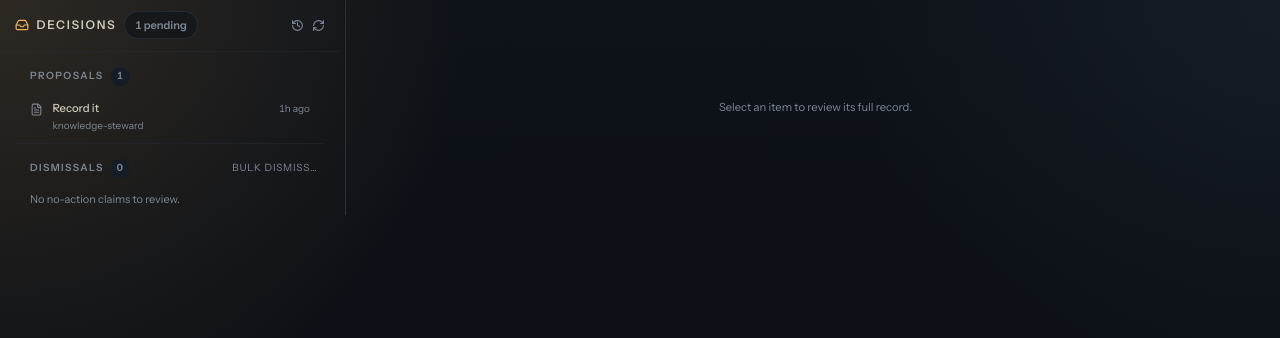
Scenario: DecisionsView proposal pane › shows no badge when the agent stated none — absent is not low
Click the text "Record it". click: (76, 108)
box: [52, 101, 99, 115]
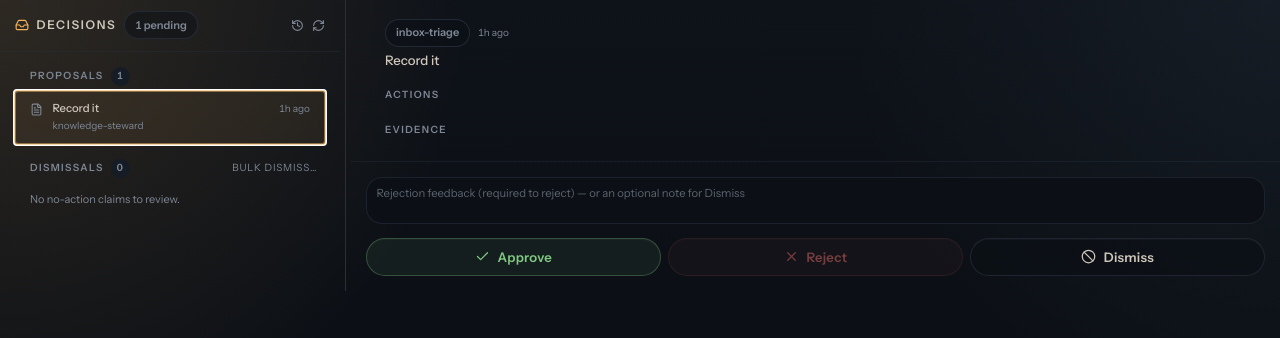
Result: the heading "Evidence" is shown at [385, 122, 447, 136]
